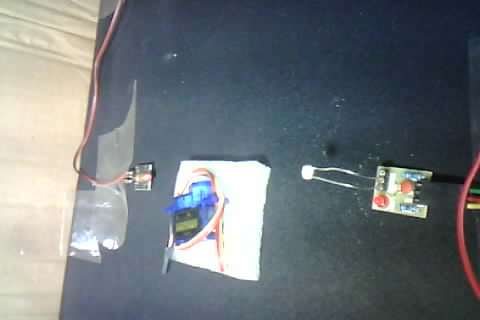motor: (156, 156, 263, 281)
